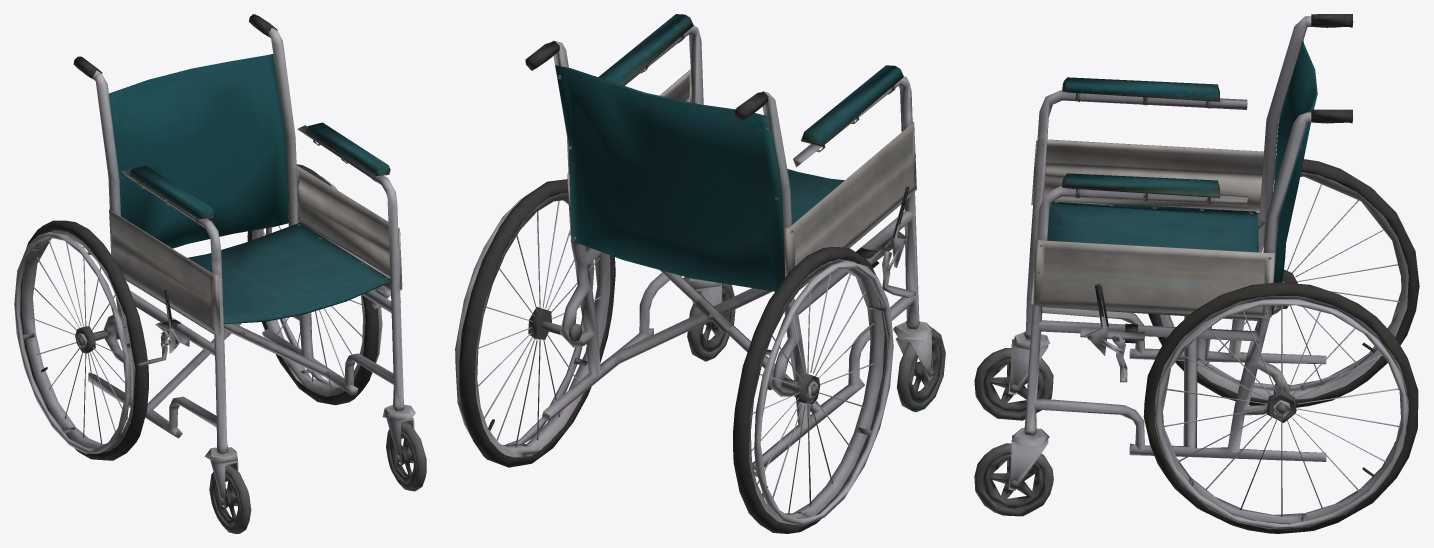
The model's file is chair.glb.
3 views of the same model, side by side, from view 1: azimuth 30°, elevation 25°; view 2: azimuth 150°, elevation 25°; view 3: azimuth 270°, elevation 25° (orthographic). The views are drawn at different scales.
Visible parts, largest first — view 1: wheelchair_01; view 2: wheelchair_01; view 3: wheelchair_01.
Part boxes in pixels (<box>): wheelchair_01: <box>14,14,426,533</box>; wheelchair_01: <box>455,14,945,533</box>; wheelchair_01: <box>974,14,1419,533</box>.
Bounding box in the file's own units: 0.8234 × 1.1 × 1.09.
Materials: 1 (1 with a texture image).
